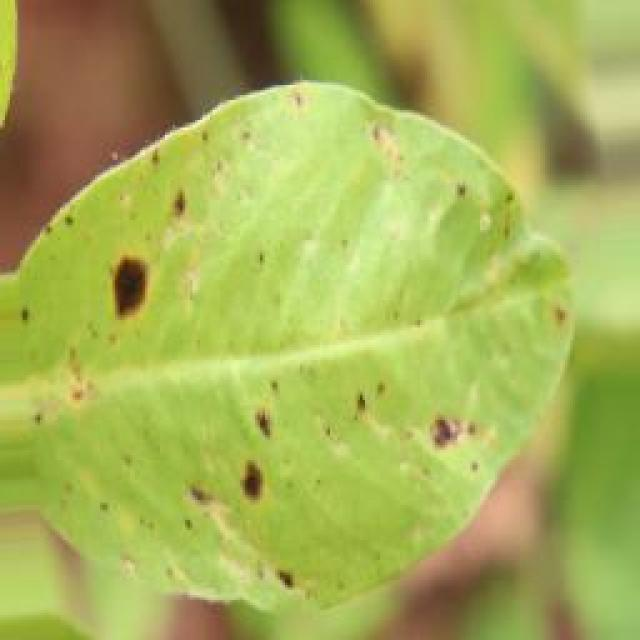Early_leaf_spot: (492, 203, 592, 358), (76, 214, 185, 324), (336, 98, 434, 218), (198, 394, 290, 520), (392, 356, 484, 476), (140, 135, 230, 240), (307, 367, 411, 451), (28, 323, 108, 422), (244, 534, 319, 612)
